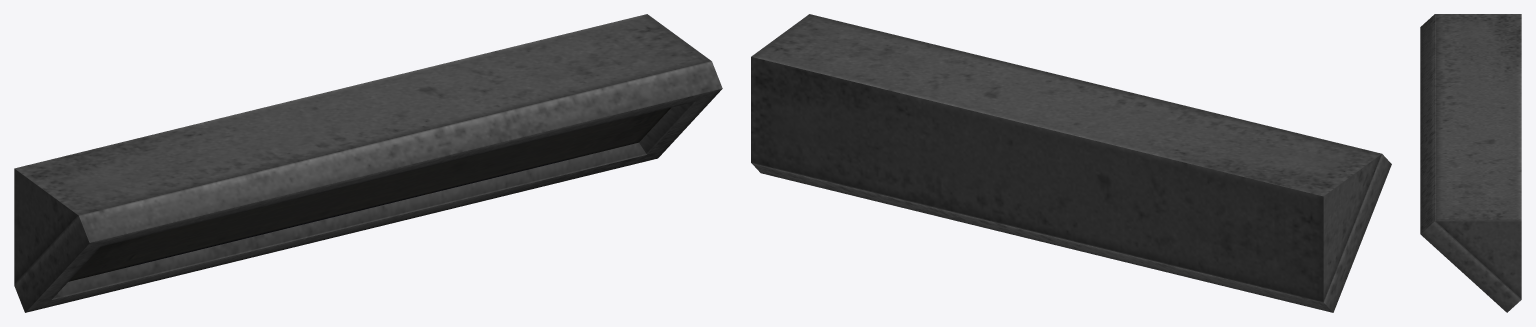
The model's file is lamp_3_off.obj.
The picture shows the model from 3 angles, left to right: view 1: azimuth 30°, elevation 25°; view 2: azimuth 150°, elevation 25°; view 3: azimuth 270°, elevation 25°; orthographic projection. The views are drawn at different scales.
Parts seen in each view (by area): view 1: lamp_3_off; view 2: lamp_3_off; view 3: lamp_3_off.
Part boxes in pixels (box(x1,y1,x2,y2)): lamp_3_off: box(14, 14, 722, 312); lamp_3_off: box(751, 14, 1391, 312); lamp_3_off: box(1420, 14, 1521, 312).
Size of the model in its own units: 1.2 by 0.2475 by 0.2475.
